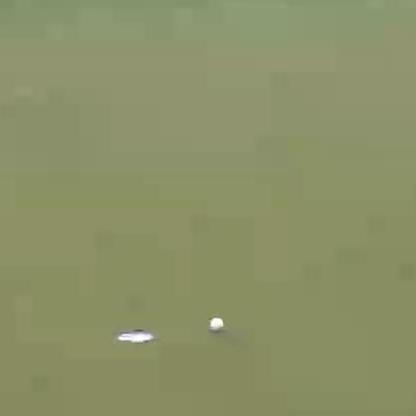golfball: (208, 315, 224, 330)
